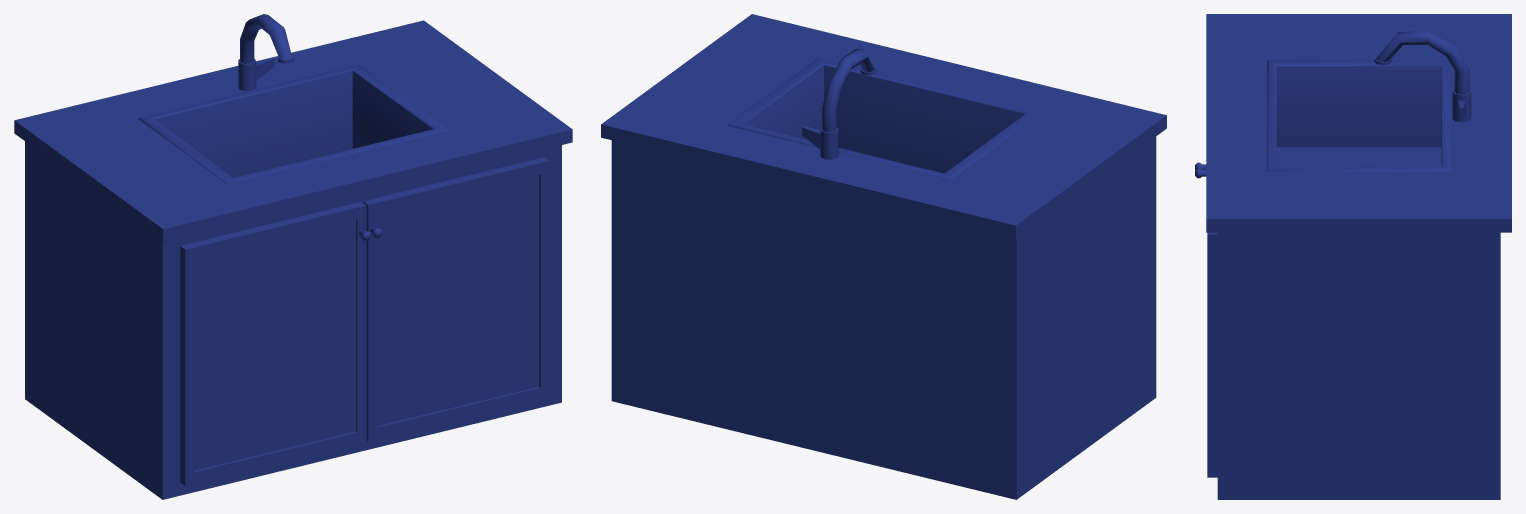
File: pia.fbx
The picture shows the model from 3 angles, left to right: view 1: azimuth 30°, elevation 25°; view 2: azimuth 150°, elevation 25°; view 3: azimuth 270°, elevation 25°; orthographic projection. The views are drawn at different scales.
Parts seen in each view (by area): view 1: Pia; view 2: Pia; view 3: Pia.
Part boxes in pixels (box(x1,y1,x2,y2)): Pia: box(14, 14, 572, 499); Pia: box(601, 14, 1166, 499); Pia: box(1195, 14, 1511, 499).
Bounding box in the file's own units: 326 × 275 × 213.
